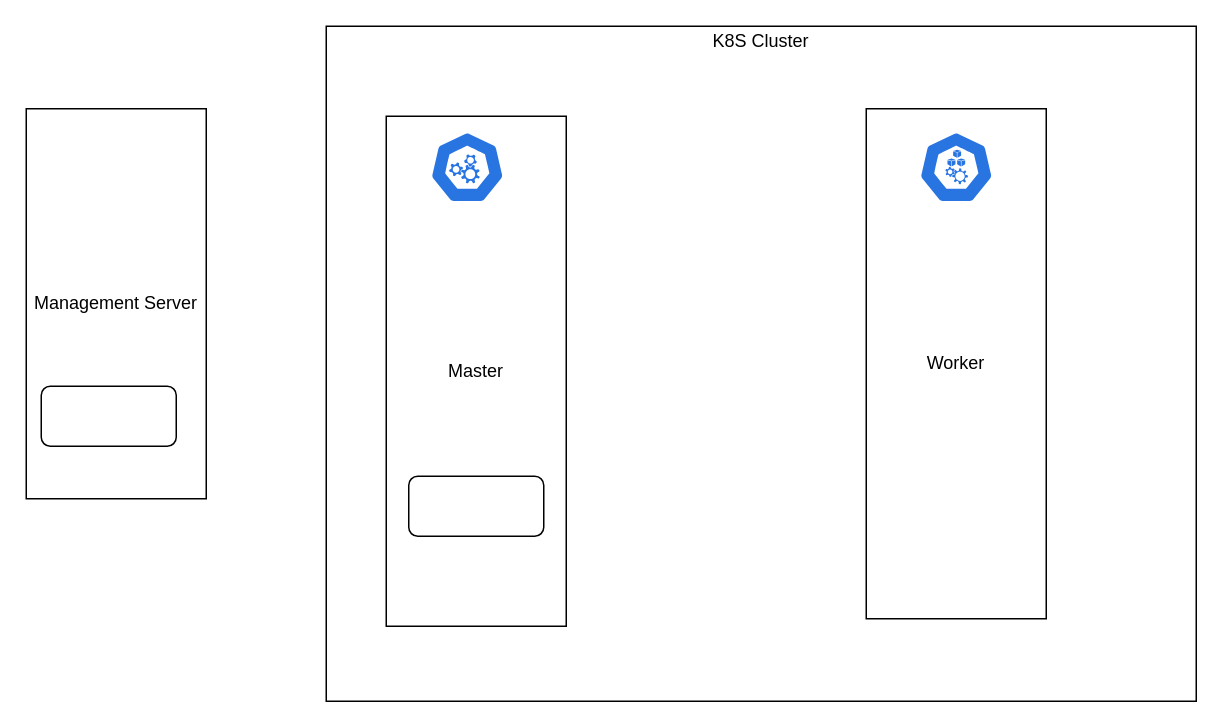
Some shapes in this 1223 by 728 pixel diagram are drawn without their labels. The shapes that lost their labels are listed below. From the top down, each one's centre as x and y in pixels, then its label:
the point at 108,415: HELM 2 Client
the point at 475,505: Tiller
